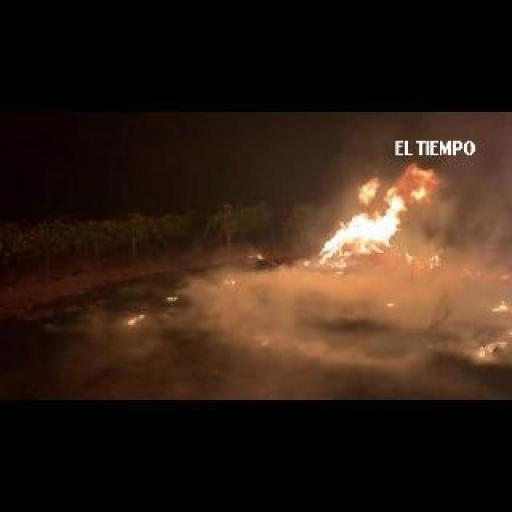smoke: (306, 163, 444, 275), (478, 341, 506, 355), (493, 301, 509, 312), (128, 314, 146, 323), (164, 294, 178, 301), (226, 278, 236, 284), (387, 302, 395, 308), (258, 254, 262, 260)
